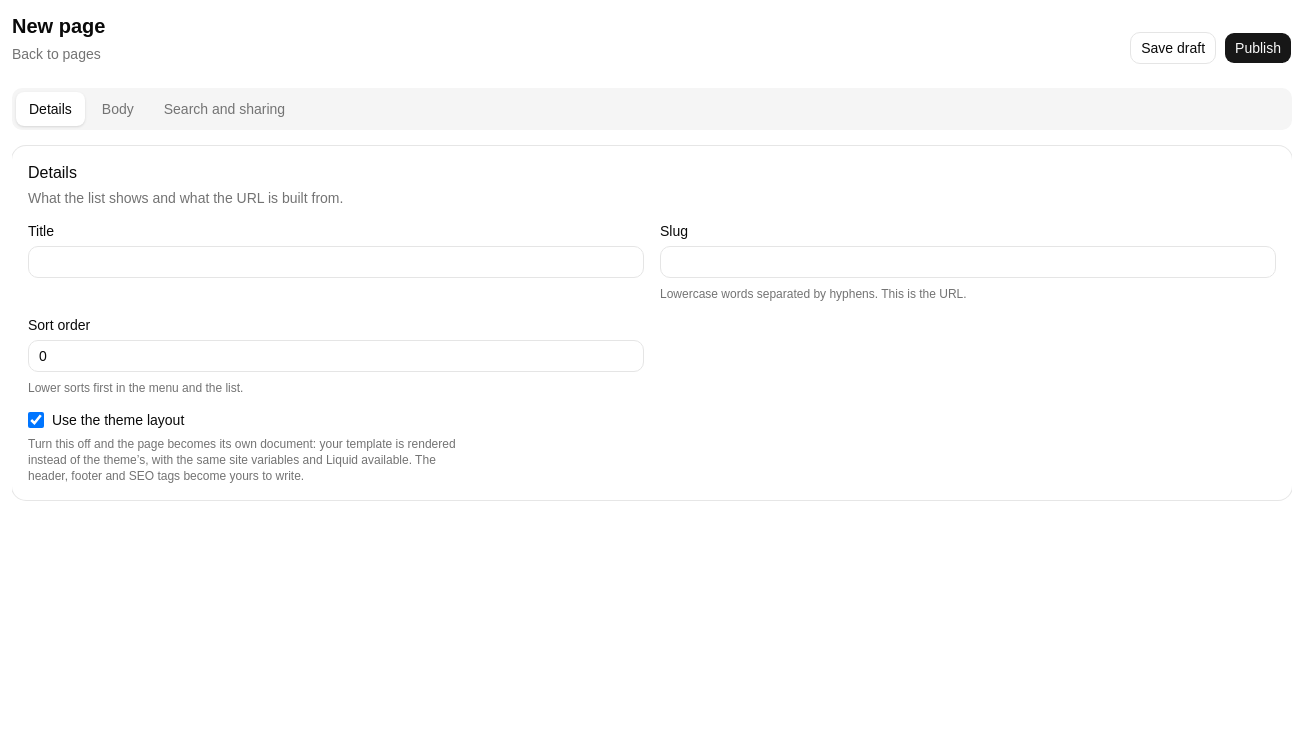
Test: saving a page › reports a taken slug on the field
Type "About" into the field labelled "Title" at (336, 262), box [28,246,644,278]
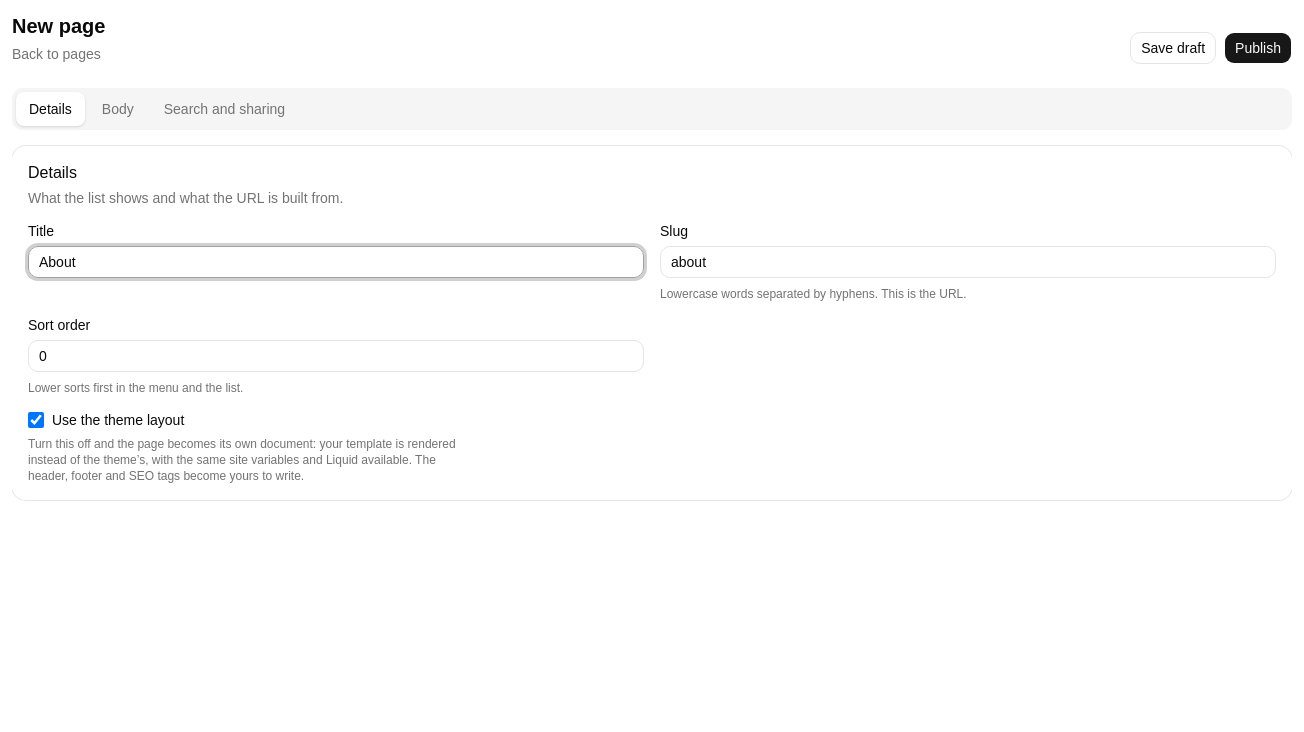
Click the button "Publish" at (1258, 48), box [1224,32,1292,64]
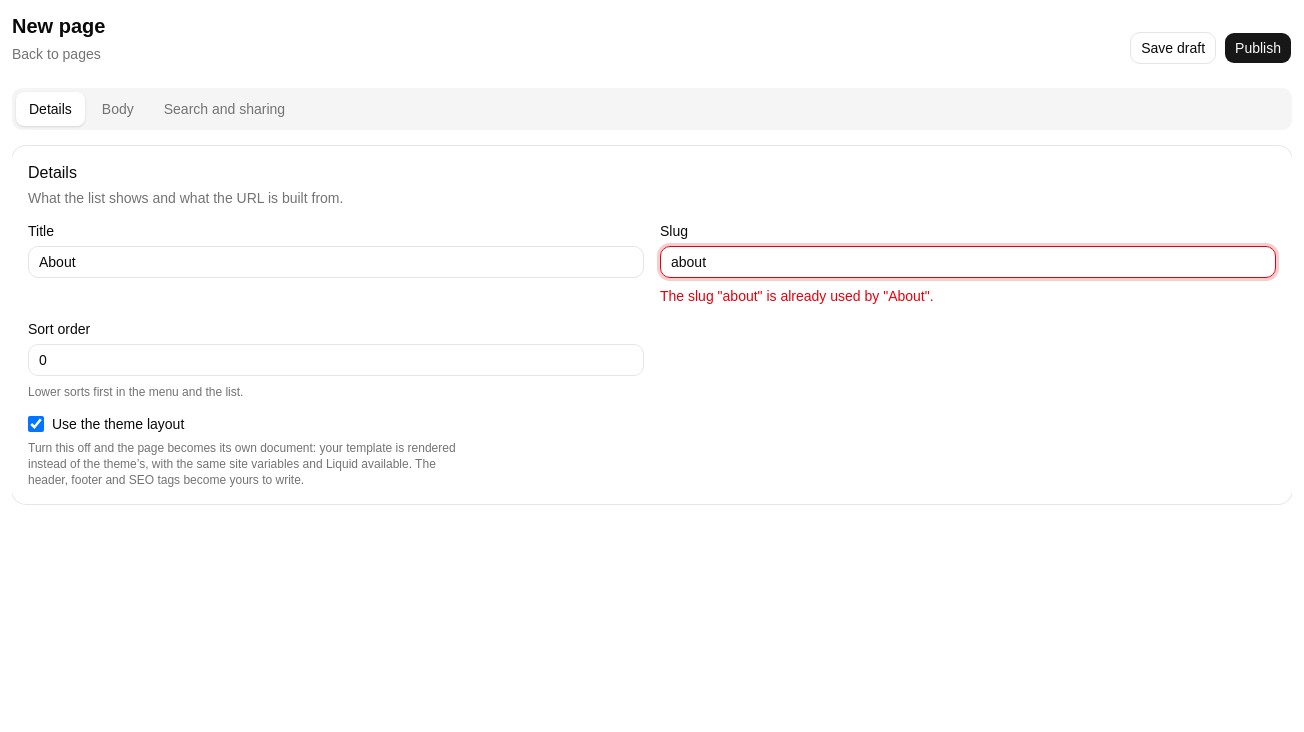
expect the text "The slug \"about\" is already used by \"About\"." is shown: met, box [660,288,934,304]
